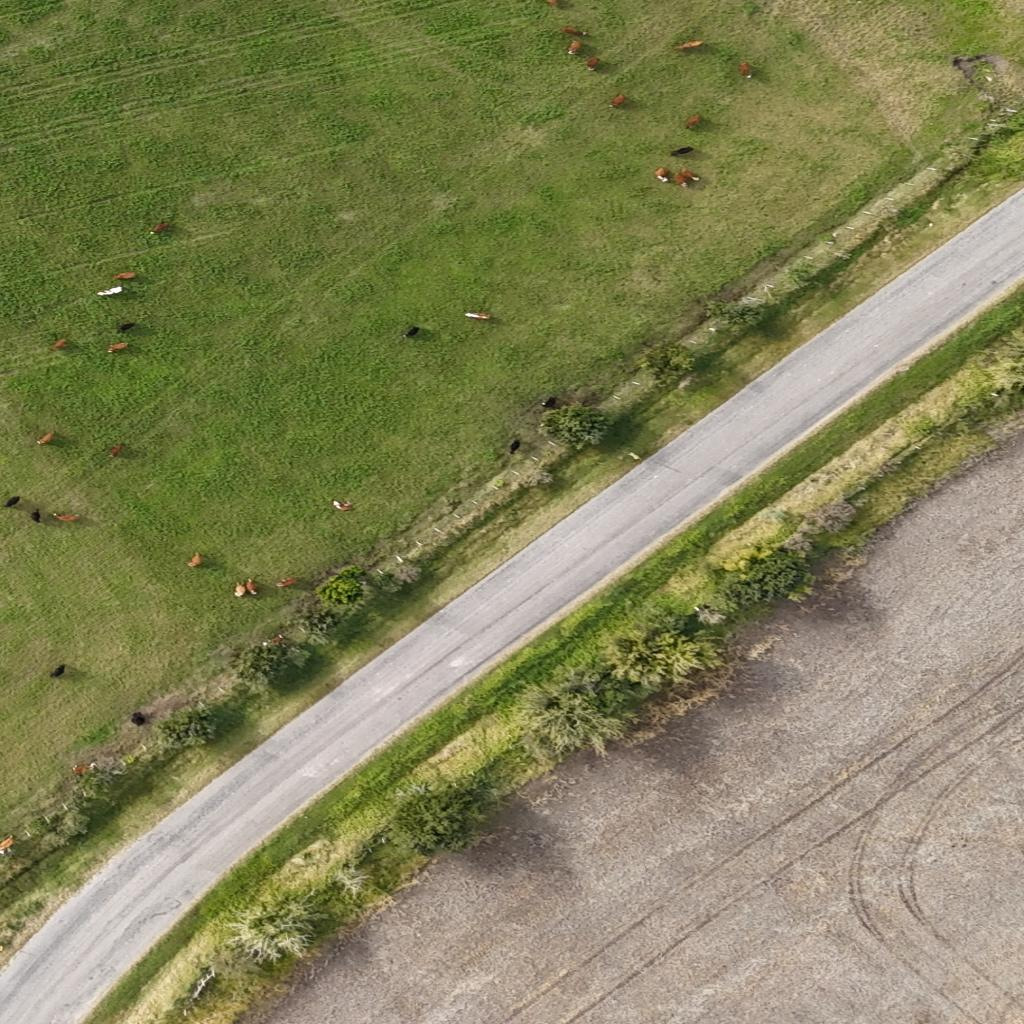cow: (463, 310, 494, 321), (678, 170, 704, 182), (560, 28, 588, 39), (129, 712, 151, 726), (96, 286, 124, 296), (400, 325, 420, 339), (674, 41, 705, 50), (0, 836, 16, 853), (566, 40, 582, 56), (684, 115, 701, 130), (608, 94, 626, 108), (738, 62, 752, 80), (107, 342, 128, 354), (333, 499, 354, 511), (54, 512, 79, 522), (669, 146, 693, 156), (676, 171, 690, 188), (37, 432, 55, 445), (540, 396, 558, 409), (151, 222, 170, 234), (586, 57, 601, 72), (654, 168, 670, 182), (187, 553, 203, 567), (50, 664, 66, 678), (233, 581, 246, 598), (266, 635, 286, 646), (3, 496, 21, 508), (72, 764, 91, 775), (108, 444, 124, 457), (246, 579, 258, 595), (116, 323, 135, 333), (52, 339, 70, 349), (508, 439, 520, 454), (31, 509, 42, 523), (114, 272, 136, 279), (277, 578, 296, 586), (543, 0, 562, 8)
